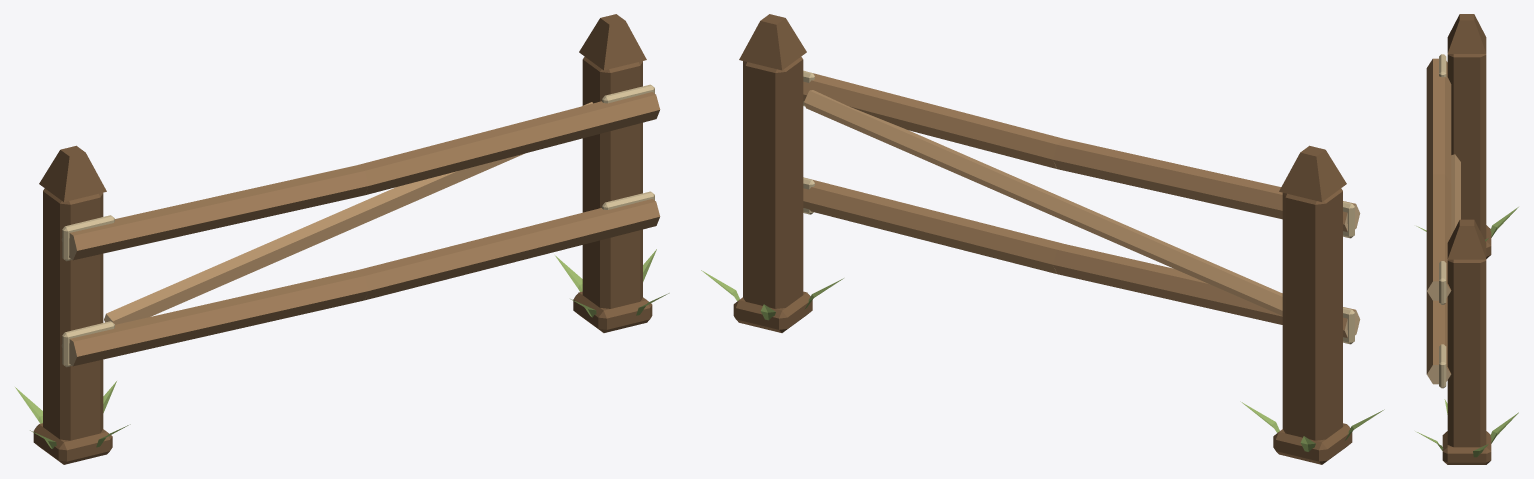
The model's file is fence.glb.
3 renders of one model, left to right at view 1: azimuth 30°, elevation 25°; view 2: azimuth 150°, elevation 25°; view 3: azimuth 270°, elevation 25°, orthographic. The views are drawn at different scales.
Visible parts, largest first — view 1: Fence; view 2: Fence; view 3: Fence.
Part boxes in pixels (left/top/right/bottom): Fence: left=15, top=14, right=669, bottom=464; Fence: left=701, top=14, right=1384, bottom=464; Fence: left=1415, top=14, right=1518, bottom=464.
Size of the model in its own units: 2.43 by 1.06 by 0.4345.
